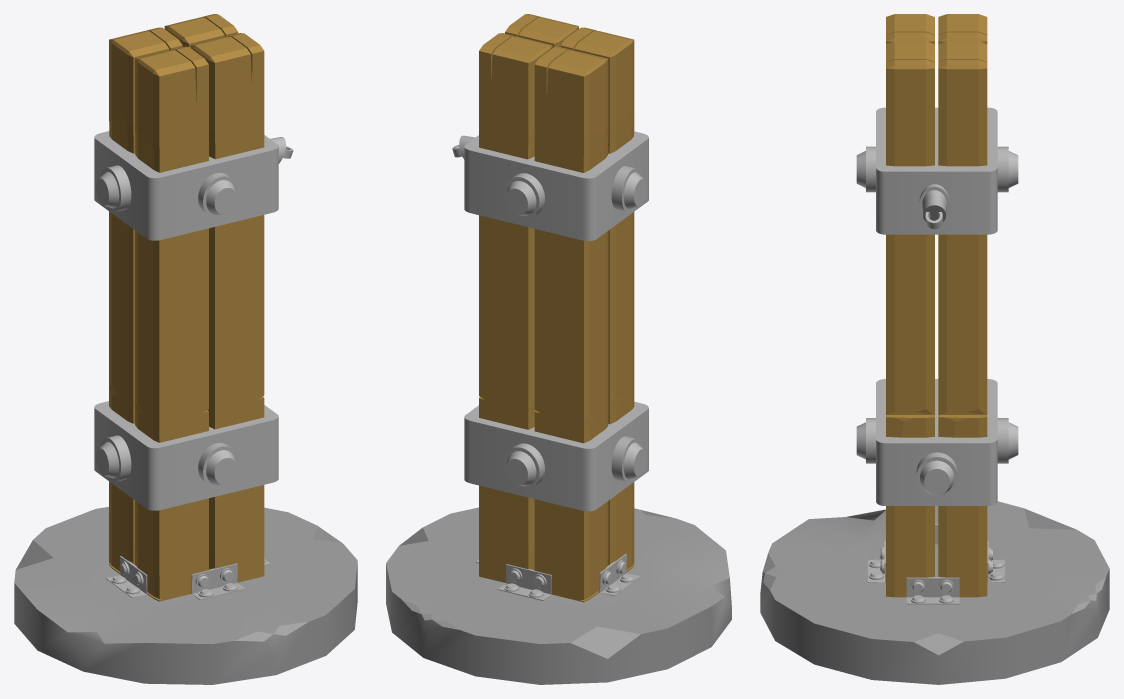
3 views of the same model, side by side, from view 1: azimuth 30°, elevation 25°; view 2: azimuth 150°, elevation 25°; view 3: azimuth 270°, elevation 25° (orthographic).
Parts seen in each view (by area): view 1: Cube.090, Circle.027, Cube.092, Cube.105, Cube.098, Cube.089, Plane.049, Cube.106, Cube.093, Plane.052; view 2: Cube.090, Circle.027, Cube.092, Cube.105, Cube.098, Cube.089, Plane.050, Cube.093, Cube.106, Plane.052; view 3: Cube.090, Circle.027, Cube.092, Cube.105, Cube.089, Cube.098, Cube.094, Plane.051, Cube.088.
Boxes of the visible parts, x1,y1,x2,y2 form: Cube.090: (109, 14, 264, 601); Circle.027: (14, 507, 357, 684); Cube.092: (94, 131, 278, 240); Cube.105: (94, 401, 278, 510); Cube.098: (198, 442, 238, 488); Cube.089: (198, 172, 238, 218); Plane.049: (191, 563, 245, 600); Cube.106: (96, 435, 131, 482); Cube.093: (96, 165, 131, 212); Plane.052: (105, 556, 148, 597); Cube.090: (479, 14, 634, 602); Circle.027: (386, 507, 731, 684); Cube.092: (464, 131, 648, 240); Cube.105: (464, 401, 648, 511); Cube.098: (503, 443, 544, 489); Cube.089: (503, 173, 544, 219); Plane.050: (497, 564, 551, 600); Cube.093: (611, 166, 646, 212); Cube.106: (611, 436, 646, 482); Plane.052: (598, 554, 640, 596); Cube.090: (886, 14, 987, 597); Circle.027: (760, 501, 1109, 684); Cube.092: (876, 107, 997, 234); Cube.105: (876, 379, 997, 505); Cube.089: (856, 146, 1018, 192); Cube.098: (856, 418, 1018, 463); Cube.094: (916, 452, 957, 498); Plane.051: (906, 577, 959, 604); Cube.088: (919, 184, 949, 229).
Size of the model in its own units: 220 by 397 by 220.
